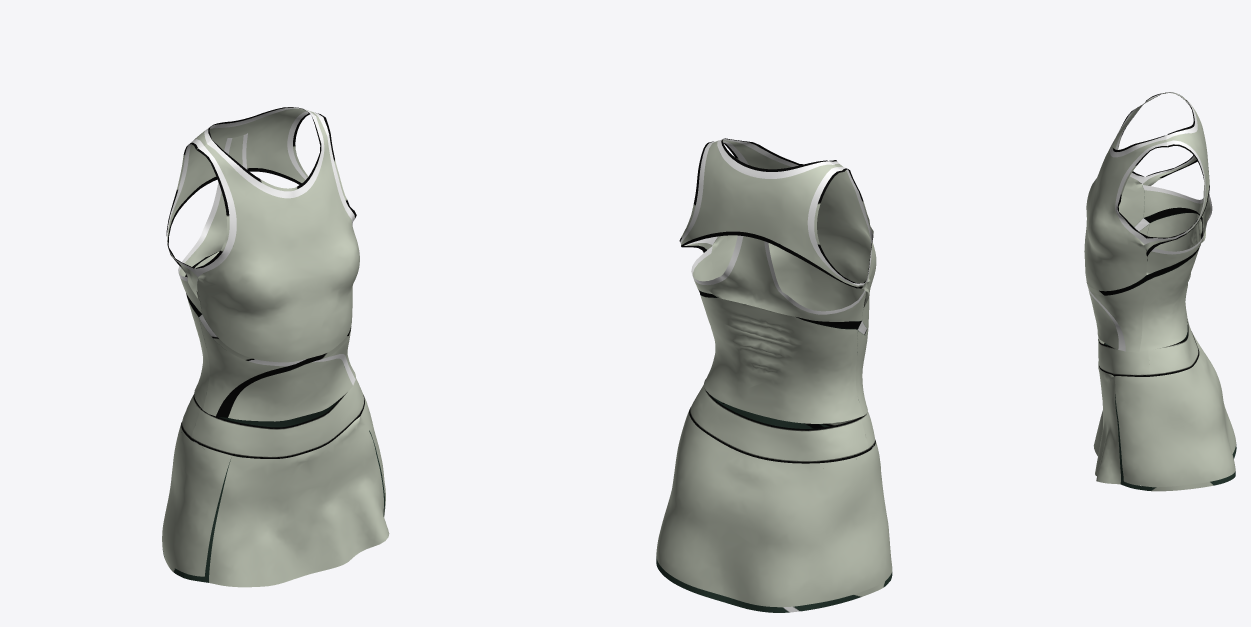
3 renders of one model, left to right at view 1: azimuth 30°, elevation 25°; view 2: azimuth 150°, elevation 25°; view 3: azimuth 270°, elevation 25°, orthographic. The views are drawn at different scales.
Visible parts, largest first — view 1: NB; view 2: NB; view 3: NB.
Part boxes in pixels (x1,y1,x2,y2): NB: (162, 107, 389, 587); NB: (656, 138, 892, 612); NB: (1084, 92, 1236, 491).
Bounding box in the file's own units: 0.8031 × 0.923 × 0.2635.
Materials: 2 (1 with a texture image).
